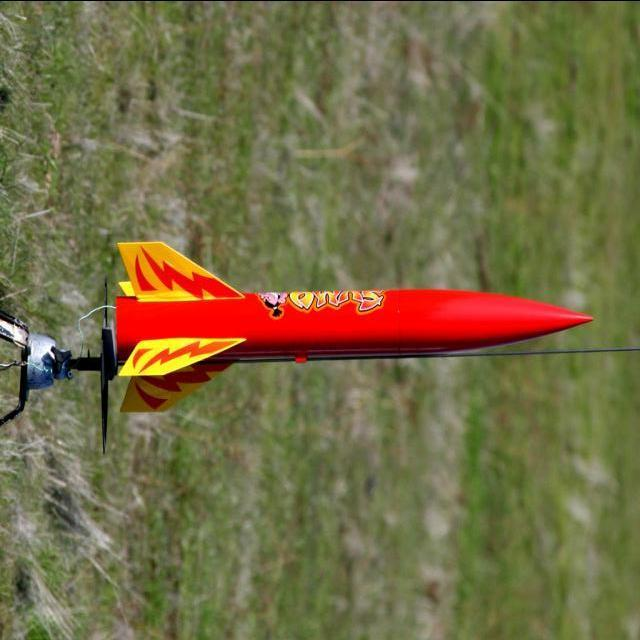Missile: (115, 242, 591, 410), (114, 284, 634, 360)
